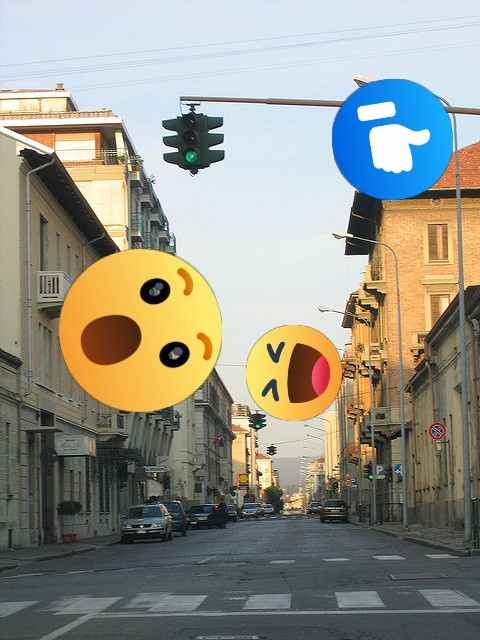haha: (246, 325, 342, 421)
like: (332, 79, 453, 200)
wow: (59, 249, 222, 412)
